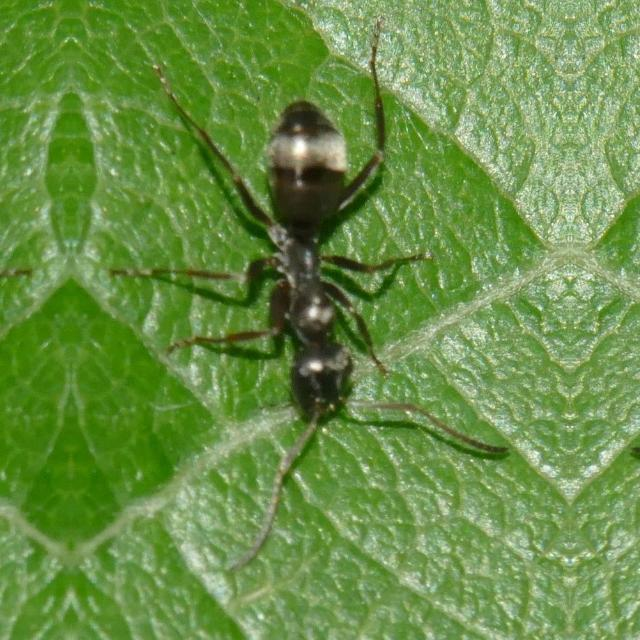Formica: (217, 92, 433, 428)
